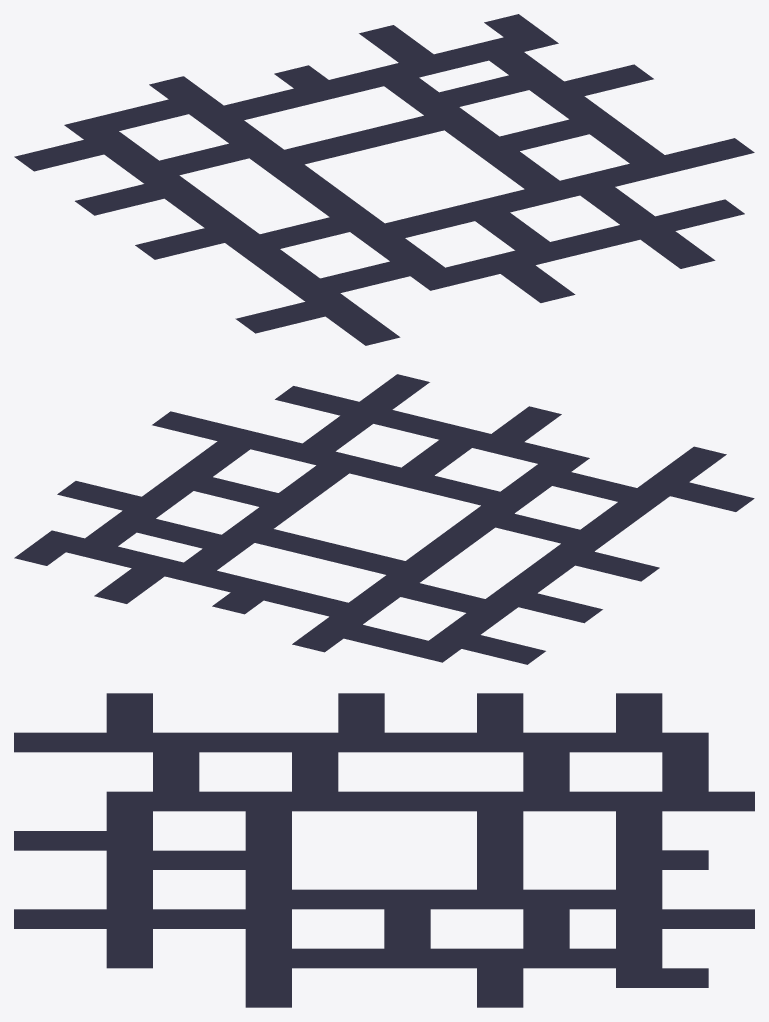
The model's file is mainplane.fbx.
The picture shows the model from 3 angles, top to bottom: view 1: azimuth 30°, elevation 25°; view 2: azimuth 150°, elevation 25°; view 3: azimuth 270°, elevation 25°; orthographic projection. The views are drawn at different scales.
Visible parts, largest first — view 1: Plane; view 2: Plane; view 3: Plane.
Boxes of the visible parts, x1,y1,x2,y2 form: Plane: (14,14,754,345); Plane: (14,374,754,664); Plane: (14,693,754,1007).
Size of the model in its own units: 15.93 by 4.48e-06 by 15.87.
